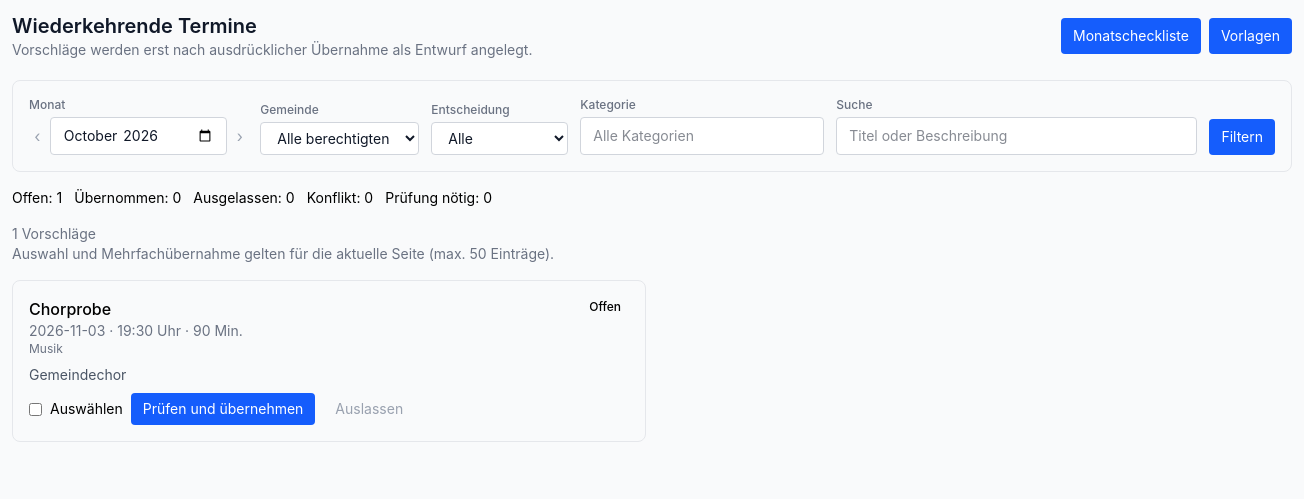
Test: recurring monthly checklist › keeps unresolved bulk errors visible without inventing successful statuses
The image size is (1304, 499).
Click the checkbox named "Chorprobe auswählen" at (36, 409), box [29, 402, 42, 416]
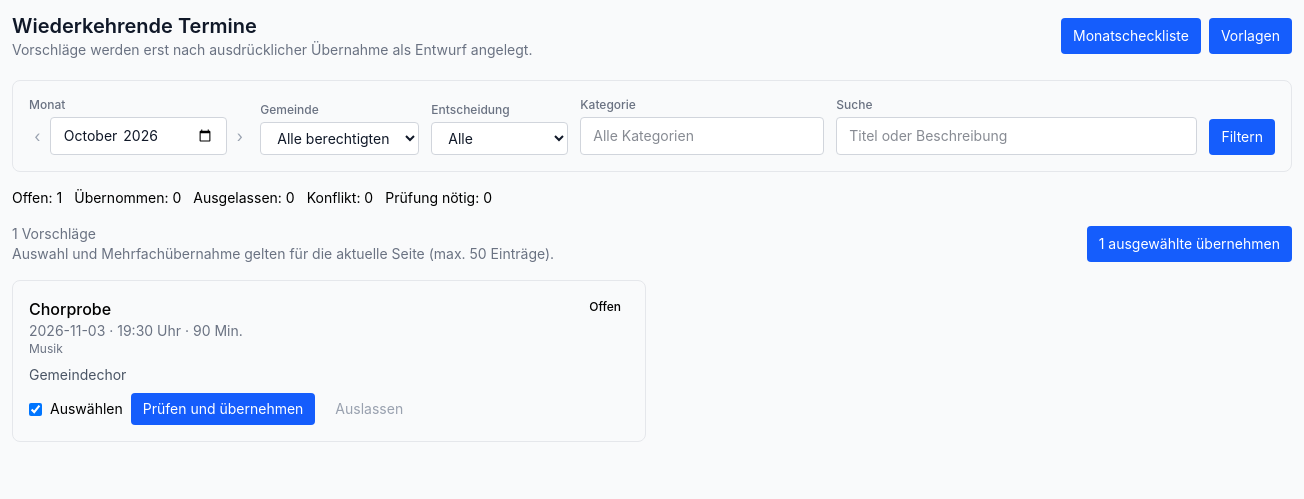
Click the button "1 ausgewählte übernehmen" at (1189, 244), box [1087, 226, 1292, 262]
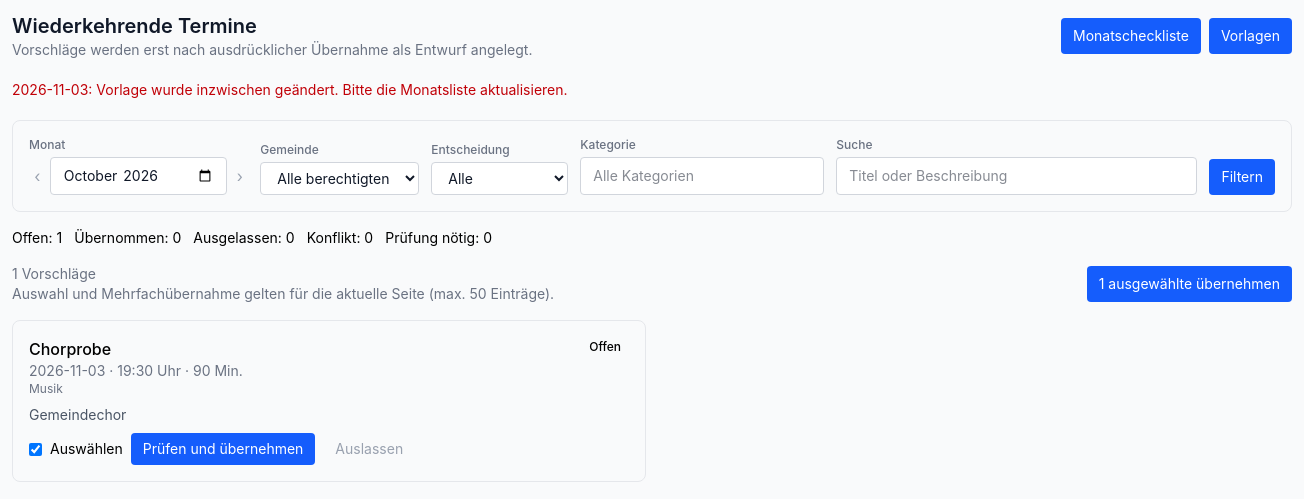
expect the text "Offen" is shown: met, box [12, 229, 62, 246]
expect the message shows "Vorlage wurde inzwischen geändert": met, box [12, 81, 568, 98]
